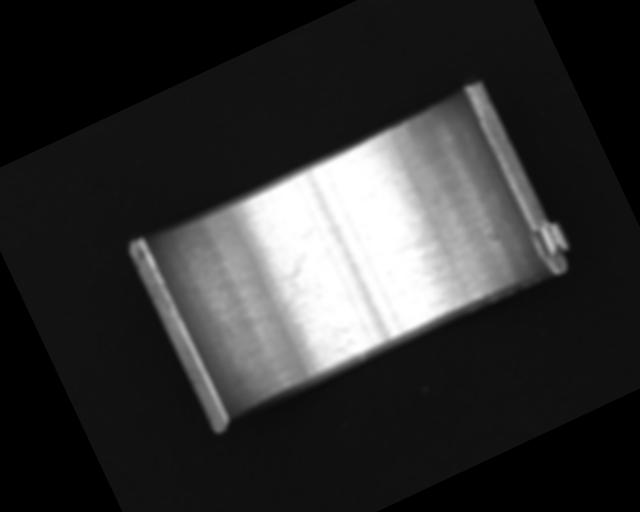blot: (267, 248, 329, 311)
